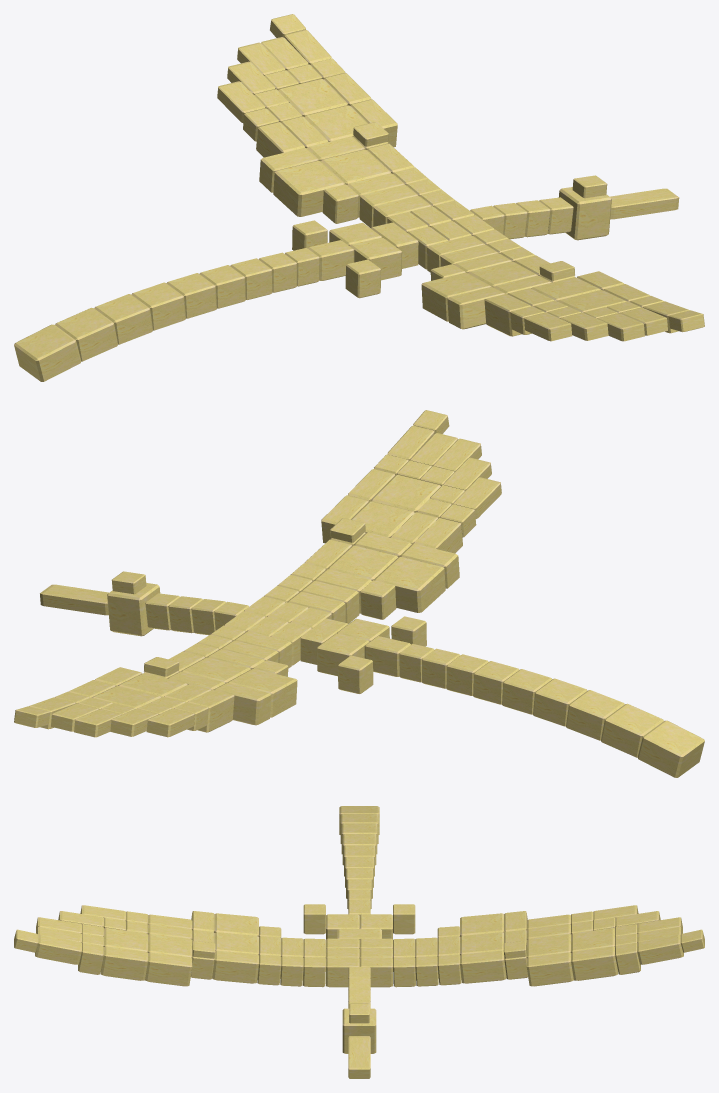
Rendered from sandbird_combo.dae.
3 views of the same model, one above another, from view 1: azimuth 30°, elevation 25°; view 2: azimuth 150°, elevation 25°; view 3: azimuth 270°, elevation 25° (orthographic). The views are drawn at different scales.
Visible parts, largest first — view 1: m0 (×59); view 2: m0 (×59); view 3: m0 (×59).
Boxes of the visible parts, left/top/right/bottom form: m0 (×59): left=14, top=14, right=704, bottom=381; m0 (×59): left=14, top=410, right=704, bottom=777; m0 (×59): left=14, top=813, right=704, bottom=1078.
Size of the model in its own units: 5602 by 798 by 6188.
Materials: 1 (1 with a texture image).
